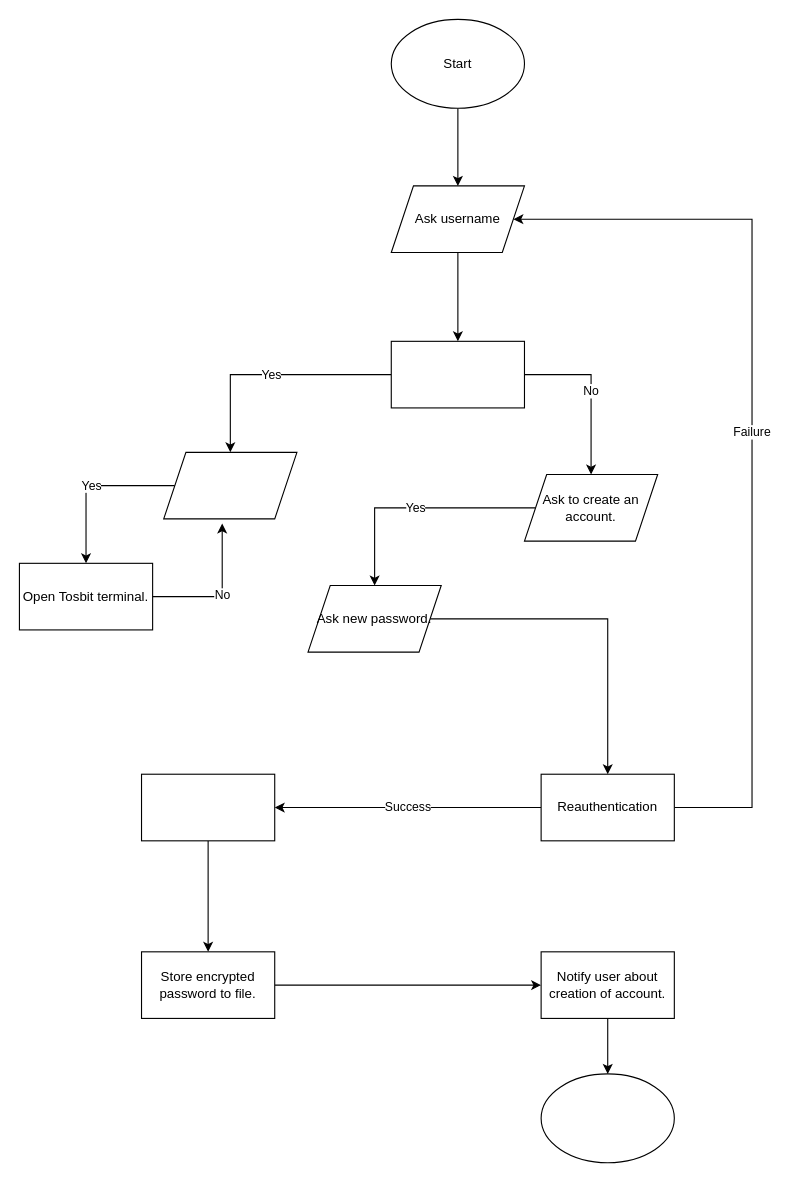
The diagram is 790 pixels wide and 1182 high, and some of its shapes have lost their labels. Here are the shapes that lost their labels. From the top down, the box of each, then its label:
(390, 340, 524, 408): Check if a file from entered user's name exist or not.
(163, 451, 297, 519): Ask password
(140, 773, 275, 841): Create a file with user's name.
(540, 1073, 674, 1163): End
